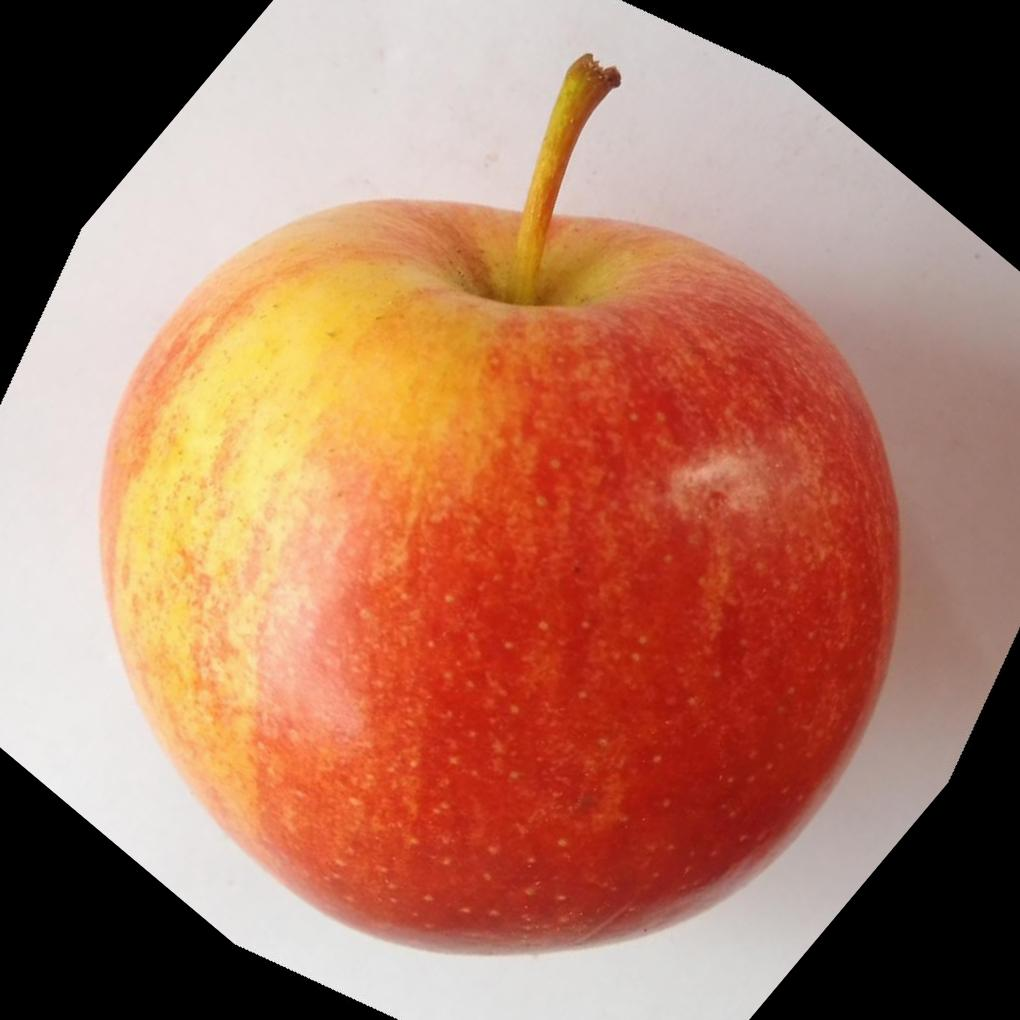FreshGuava: (92, 57, 902, 958)
